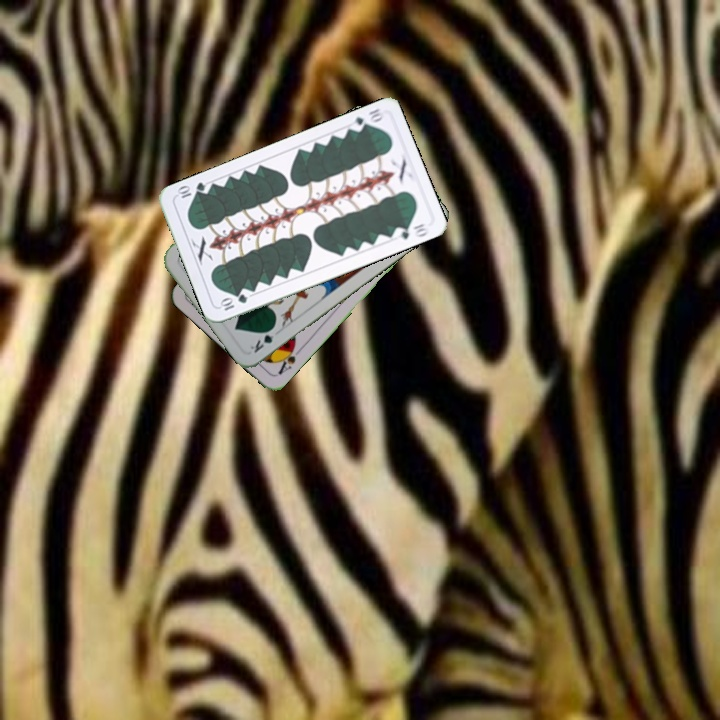G10: (346, 104, 387, 134), (215, 290, 250, 313)
GK: (246, 322, 278, 356)
SA: (274, 340, 304, 377)
